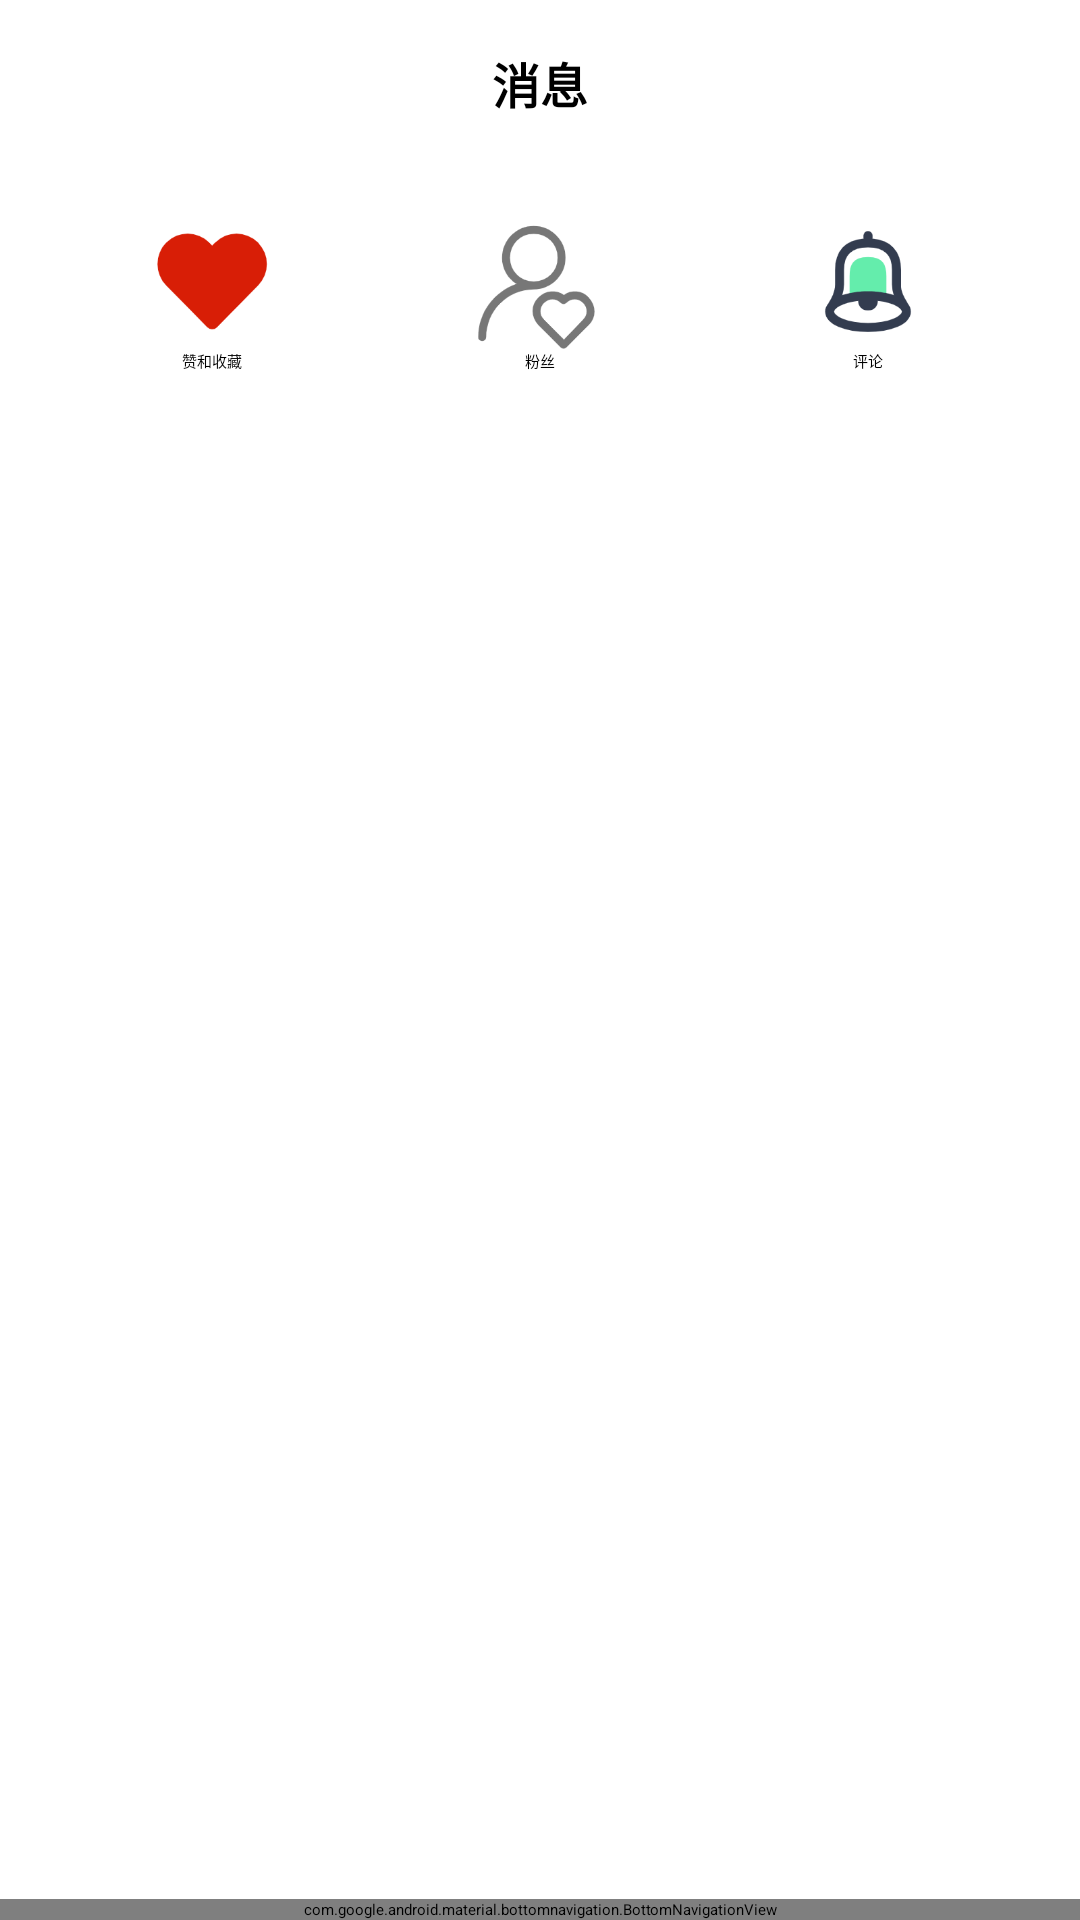

Where to tap for icons on this 1080px x 1920px app screen, as [x,y]:
heart: [212,281]
isfollow: [536,287]
